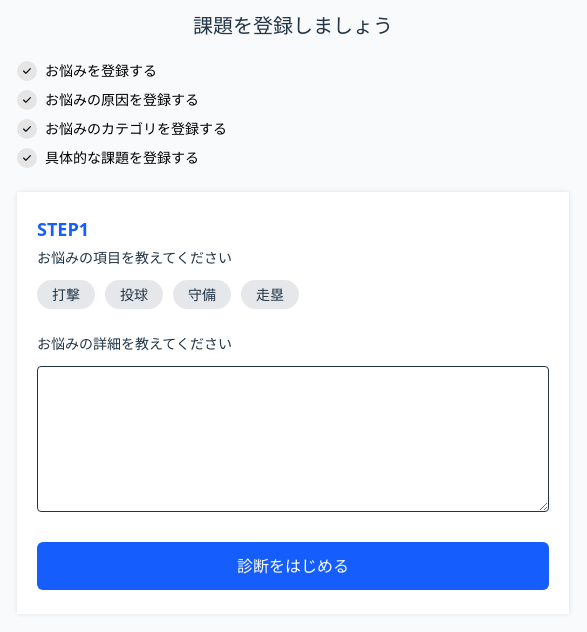
STEP画面1のテスト › カテゴリとフォームを選択するとSTEP2の項目に移動できる
Click the radio button with class "step1Radio" at [66, 294], box left=37, top=280, right=95, bottom=309
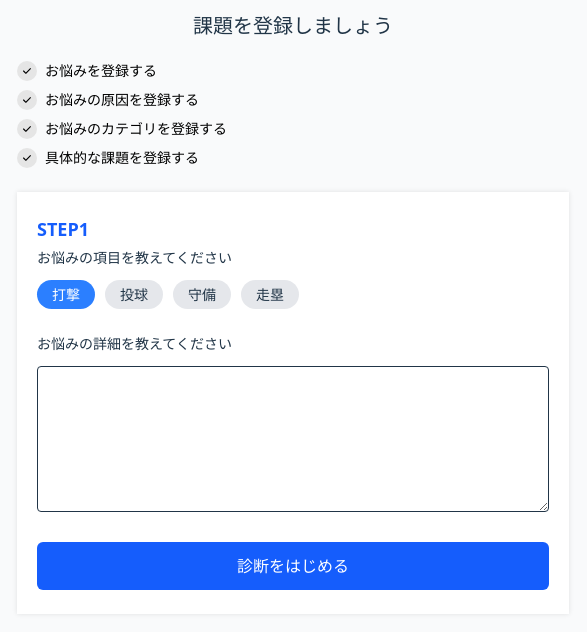
Type "テストテキスト" into the text box with class "step1Form" at [293, 439], box left=37, top=366, right=549, bottom=512
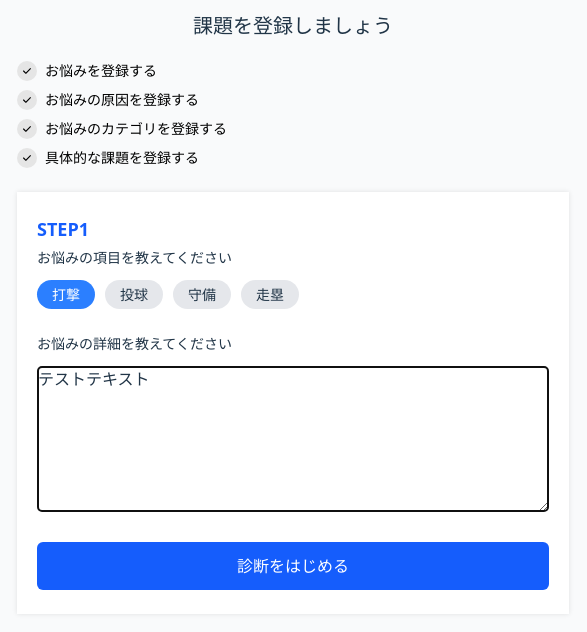
Click the button "診断をはじめる" at [293, 566], box left=37, top=542, right=549, bottom=590
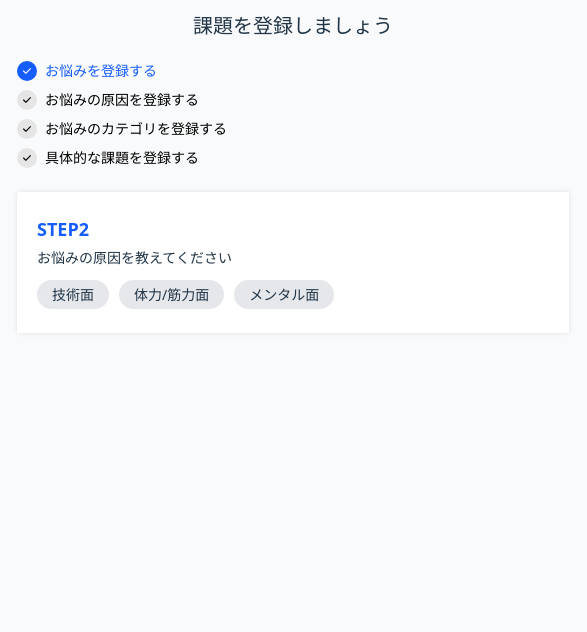
Now the heading "step2" is shown, box left=37, top=217, right=89, bottom=241
